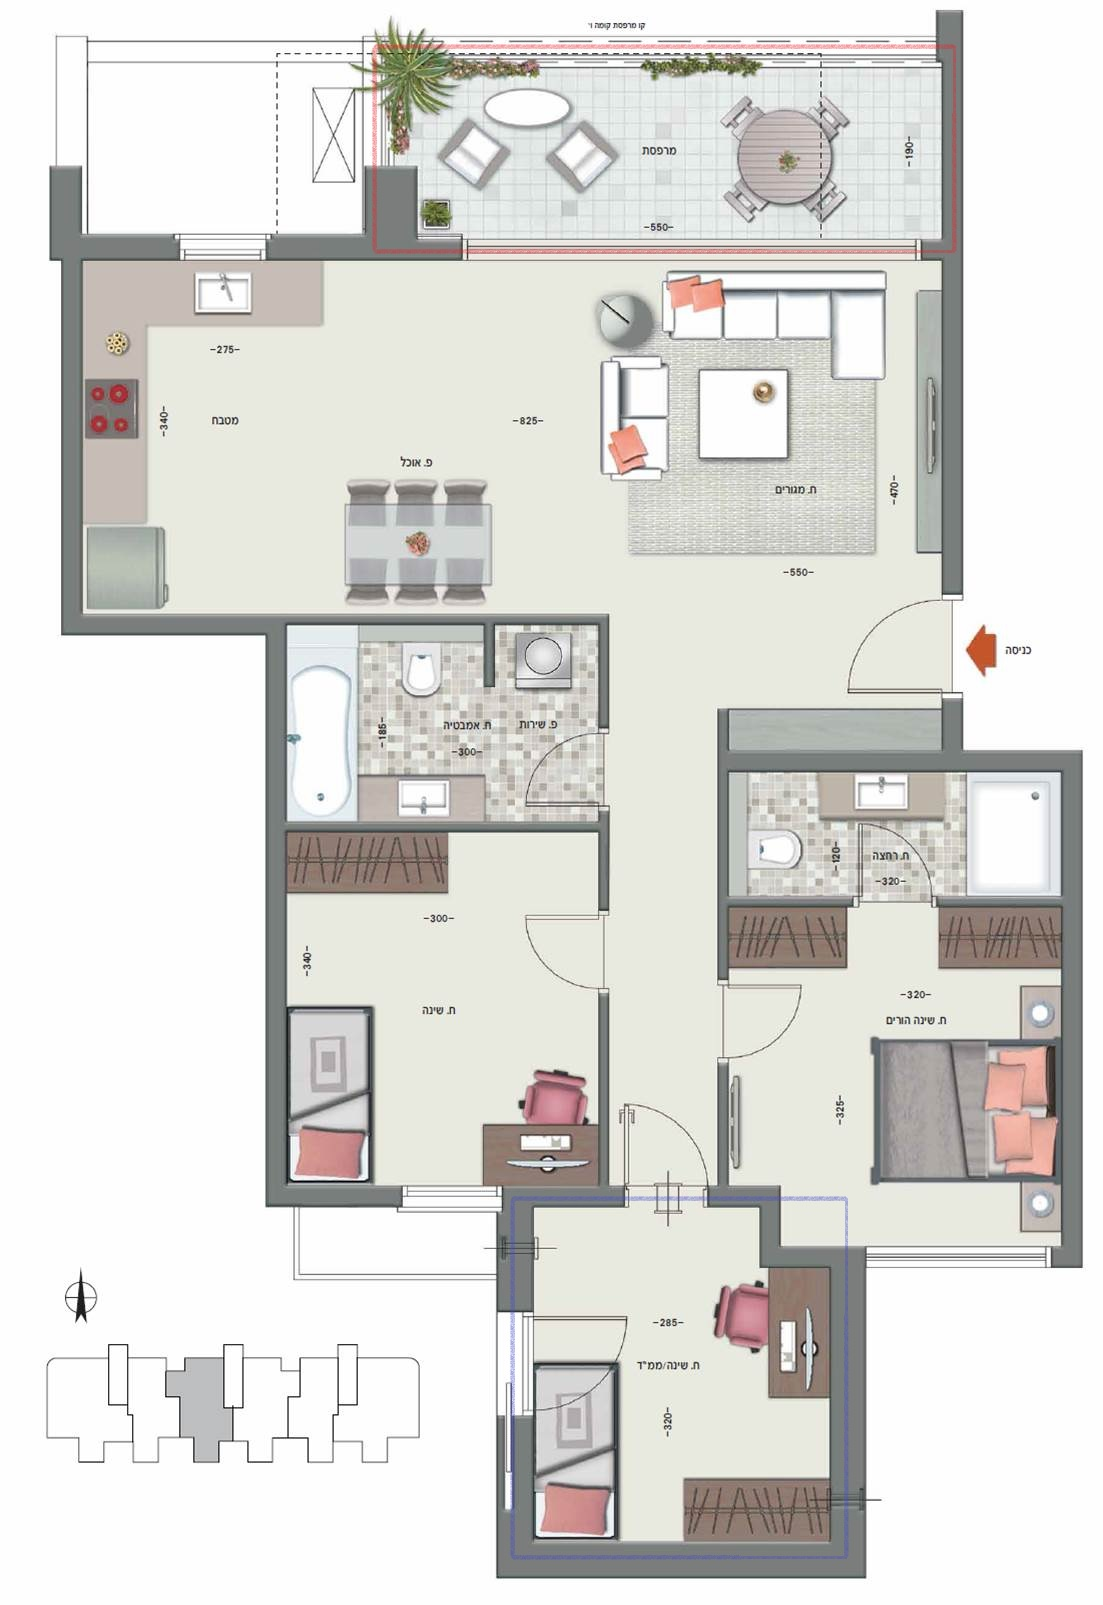balcony: (377, 44, 955, 251)
no: (67, 239, 961, 744), (272, 616, 600, 1201), (727, 761, 1094, 1254)
securityroom: (510, 1199, 847, 1561)
